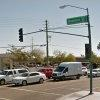Traffic light: (12, 24, 42, 55)
